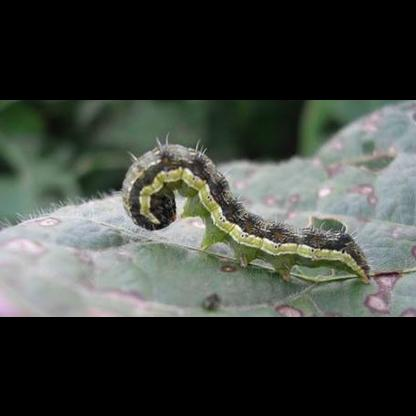oruga: (107, 143, 373, 285)
